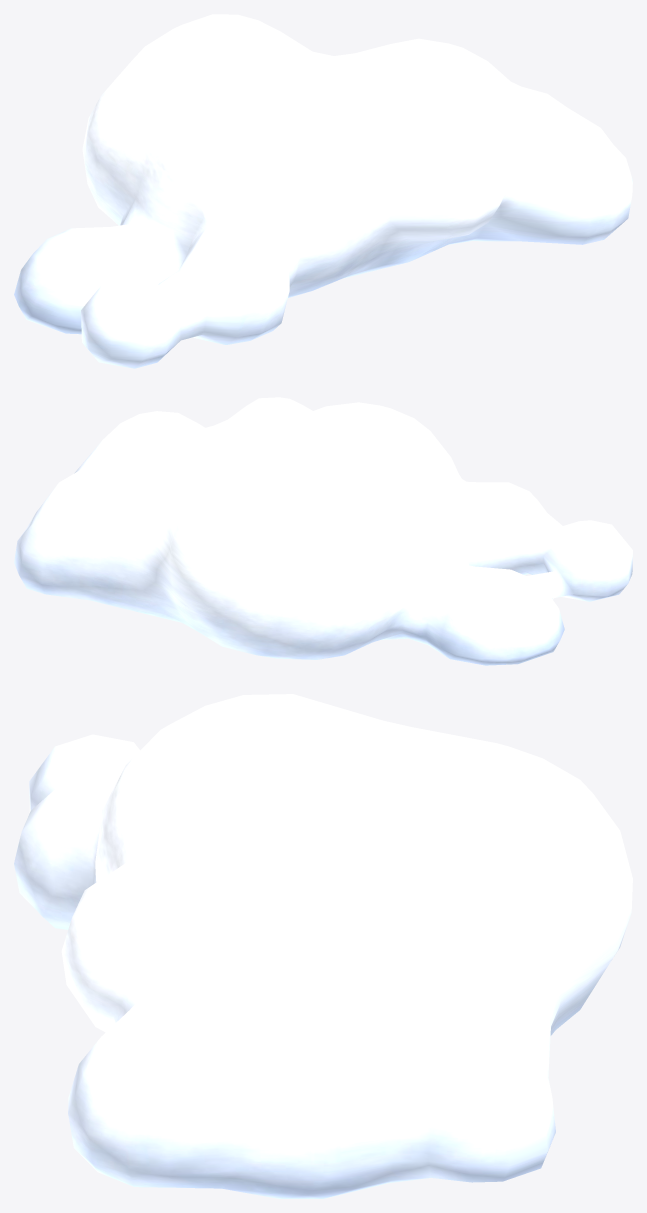
File: cloud-2.glb
3 renders of one model, top to bottom at view 1: azimuth 30°, elevation 25°; view 2: azimuth 150°, elevation 25°; view 3: azimuth 270°, elevation 25°, orthographic. The views are drawn at different scales.
Parts seen in each view (by area): view 1: cloud-2; view 2: cloud-2; view 3: cloud-2.
Part boxes in pixels (x1=…): cloud-2: x1=14, y1=14, x2=632, y2=368; cloud-2: x1=14, y1=397, x2=632, y2=665; cloud-2: x1=14, y1=694, x2=632, y2=1198.
Size of the model in its own units: 0.8508 by 0.2958 by 0.5783.
1 material, 1 textured.
